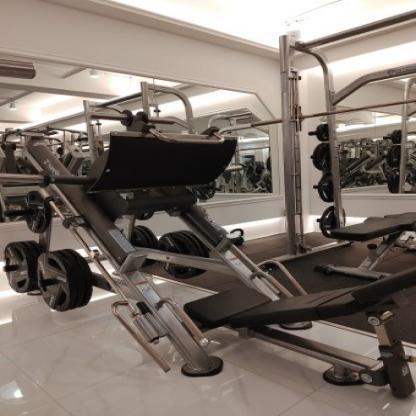leg press: (0, 108, 416, 401)
